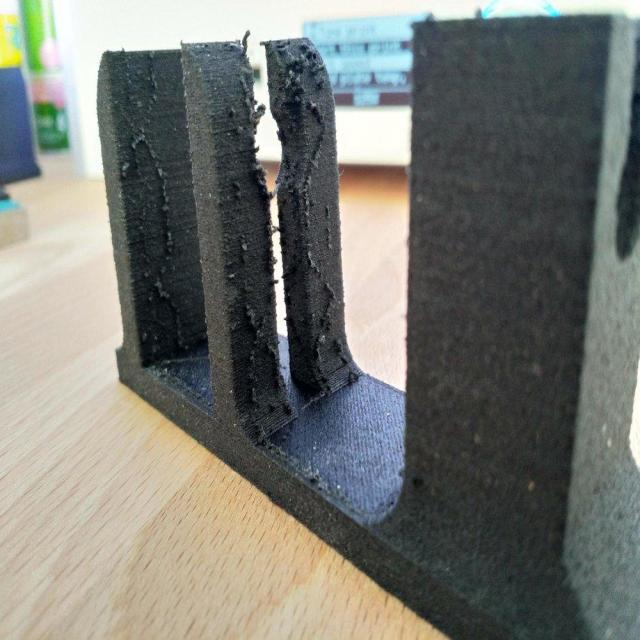spaghetti: (203, 31, 299, 448), (271, 23, 367, 423), (108, 45, 201, 371)
